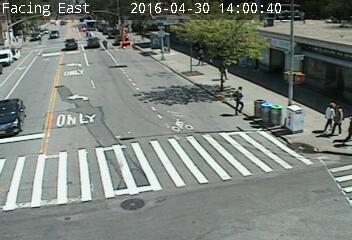neg: (33, 117, 65, 160), (119, 80, 145, 115), (5, 90, 25, 117), (131, 32, 148, 54), (85, 55, 101, 76), (61, 19, 69, 31), (50, 22, 54, 28)
pos: (226, 81, 255, 120), (319, 93, 348, 132), (215, 56, 236, 83), (330, 107, 350, 134), (191, 43, 211, 69), (35, 34, 44, 46), (82, 28, 90, 39)
